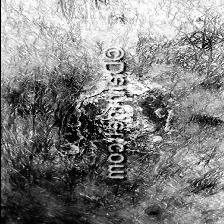Potentially Malignant Skin Tumors: (74, 76, 176, 150)
